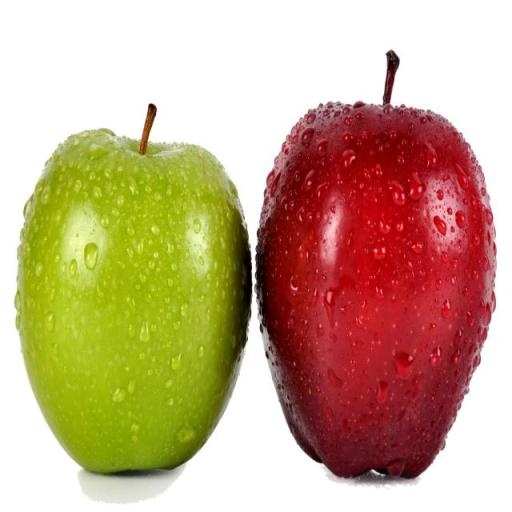fruit: (256, 52, 495, 476), (15, 106, 250, 472)
